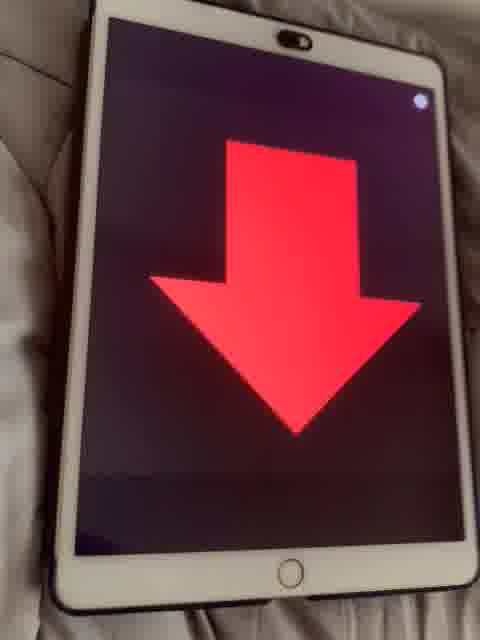down: (145, 134, 419, 440)
